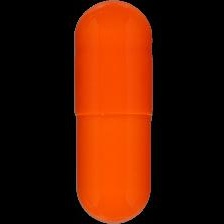42291-625: (0, 0, 224, 224)
